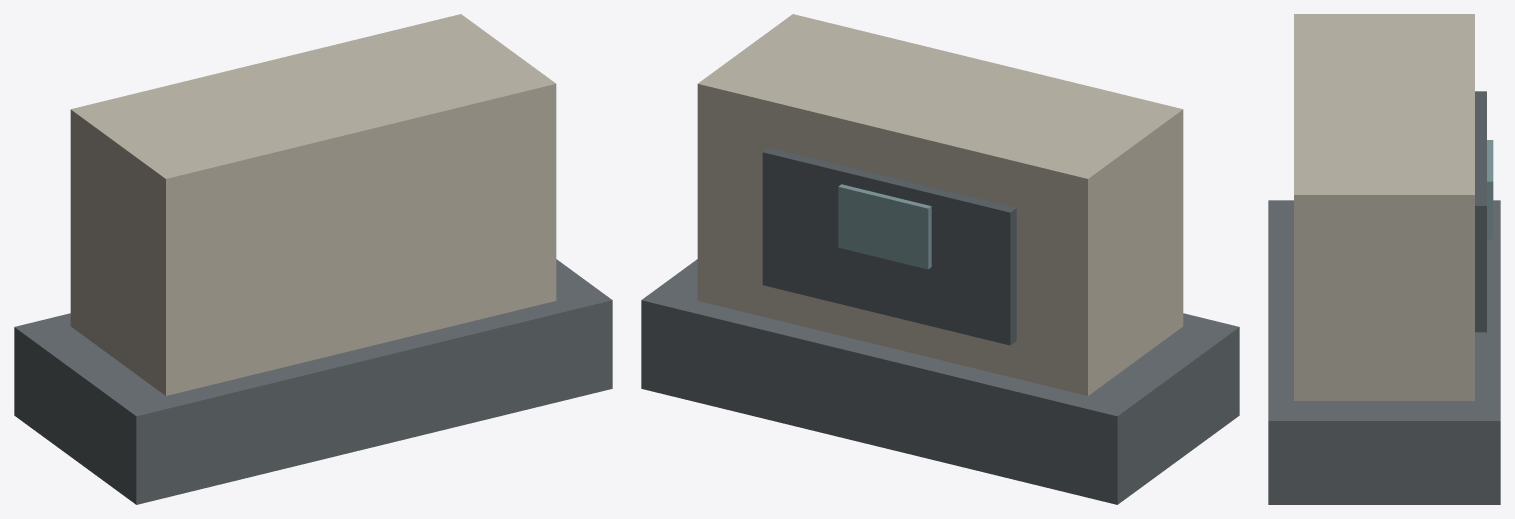
The model's file is iz3_production_electronics_01.glb.
3 renders of one model, left to right at view 1: azimuth 30°, elevation 25°; view 2: azimuth 150°, elevation 25°; view 3: azimuth 270°, elevation 25°, orthographic. The views are drawn at different scales.
Parts seen in each view (by area): view 1: cabinet, base; view 2: cabinet, base, panel, display; view 3: cabinet, base, panel, display.
Part boxes in pixels (box(x1,y1,x2,y2)): cabinet: box(70, 14, 556, 395); base: box(14, 259, 612, 504); cabinet: box(697, 14, 1183, 395); base: box(641, 259, 1239, 504); panel: box(762, 147, 1016, 345); display: box(838, 184, 931, 269); cabinet: box(1294, 14, 1474, 400); base: box(1268, 200, 1500, 504); panel: box(1475, 91, 1486, 332); display: box(1487, 140, 1493, 239).
Bounding box in the file's own units: 1.8 × 1.1 × 0.8.
